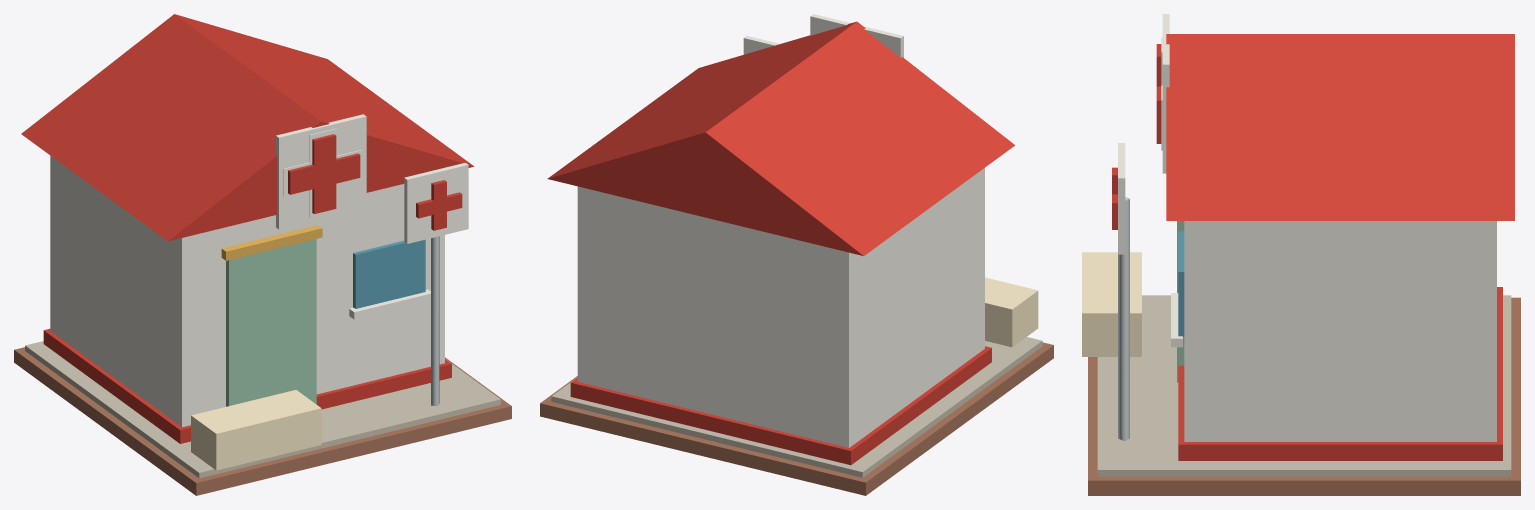
File: fac_firstaid.glb
3 renders of one model, left to right at view 1: azimuth 30°, elevation 25°; view 2: azimuth 150°, elevation 25°; view 3: azimuth 270°, elevation 25°, orthographic. The views are drawn at different scales.
Visible parts, largest first — view 1: fac_firstaid; view 2: fac_firstaid; view 3: fac_firstaid.
Part boxes in pixels (<box>): fac_firstaid: <box>14,14,511,495</box>; fac_firstaid: <box>540,14,1053,495</box>; fac_firstaid: <box>1082,14,1520,495</box>.
Bounding box in the file's own units: 3.6 × 3.4 × 3.65.
